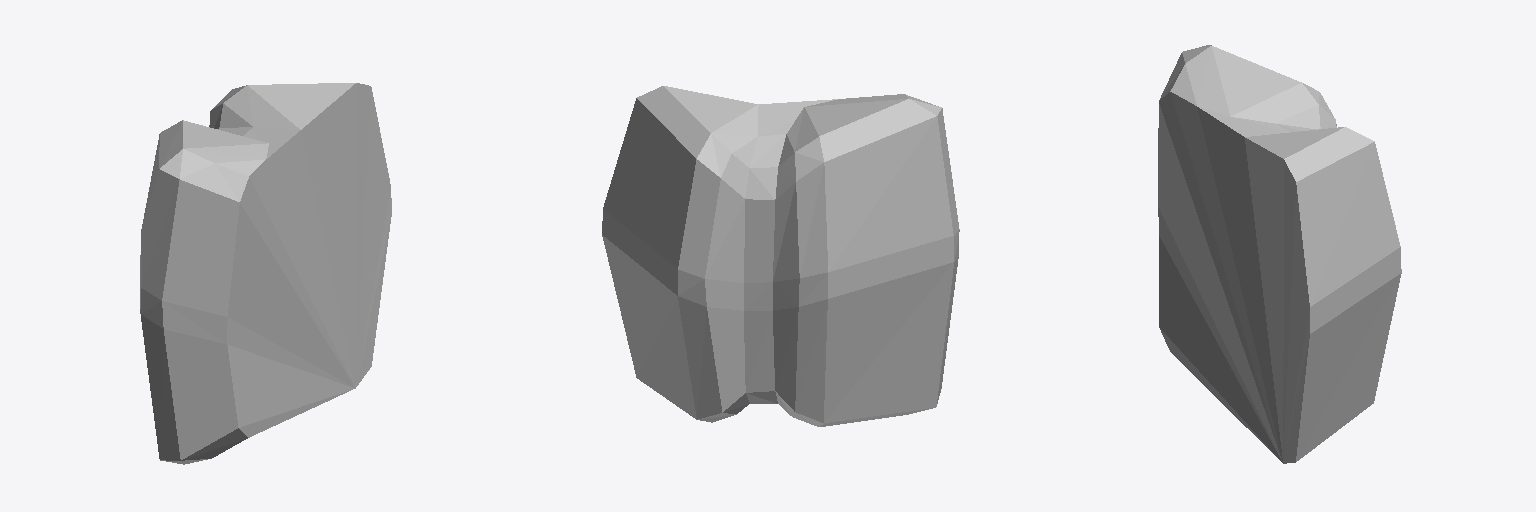
Rendered from bellPepperHalf.obj.
3 views of the same model, side by side, from view 1: azimuth 30°, elevation 25°; view 2: azimuth 150°, elevation 25°; view 3: azimuth 270°, elevation 25° (orthographic).
Parts seen in each view (by area): view 1: bellPepper_geo; view 2: bellPepper_geo; view 3: bellPepper_geo.
Part boxes in pixels (left/top/right/bottom): bellPepper_geo: left=140, top=83, right=391, bottom=464; bellPepper_geo: left=602, top=86, right=959, bottom=426; bellPepper_geo: left=1158, top=45, right=1401, bottom=463.
Size of the model in its own units: 5.96 by 5.97 by 4.15.